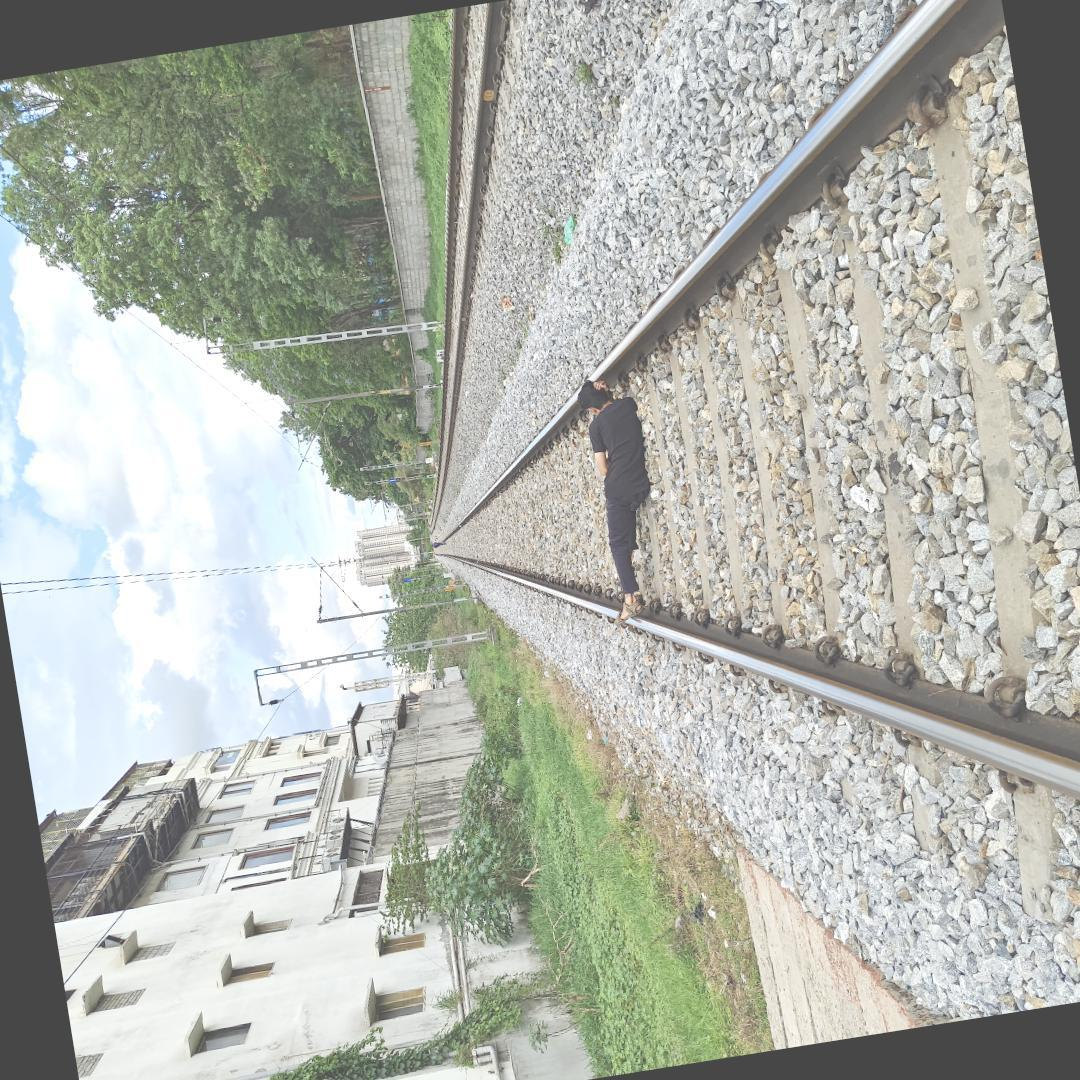sleeping: (564, 359, 683, 644)
